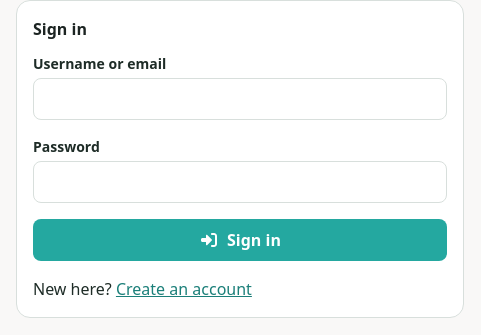
SignInPage › hides the code form for a webauthn-only account
Type "alice" into the field labelled "Username or email" at {"x": 240, "y": 99}, box x1=33 y1=78 x2=447 y2=120
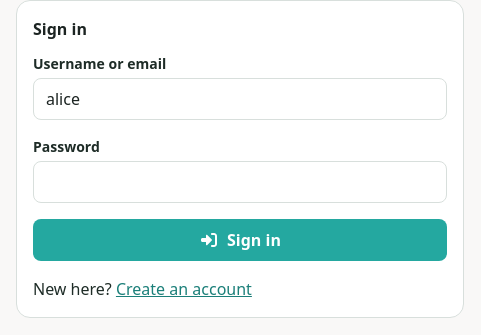
Type "secret" into the password field labelled "Password" at {"x": 240, "y": 182}, box x1=33 y1=161 x2=447 y2=203
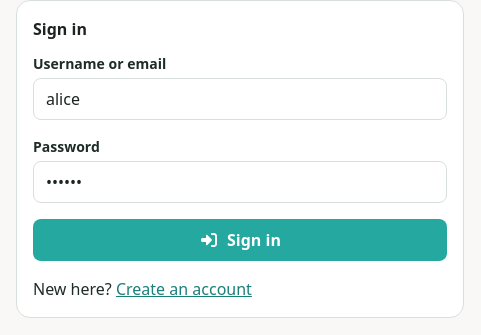
Submit the form with class "signin__form"
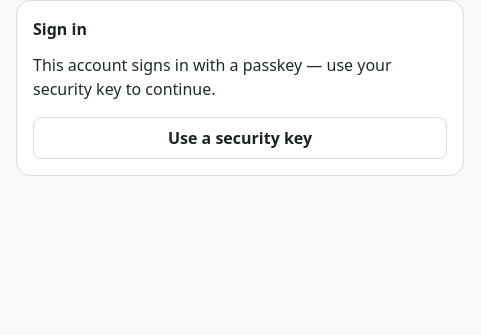
Check: no fields are shown
Check: the text "passkey" is shown, box x1=33 y1=54 x2=392 y2=100
